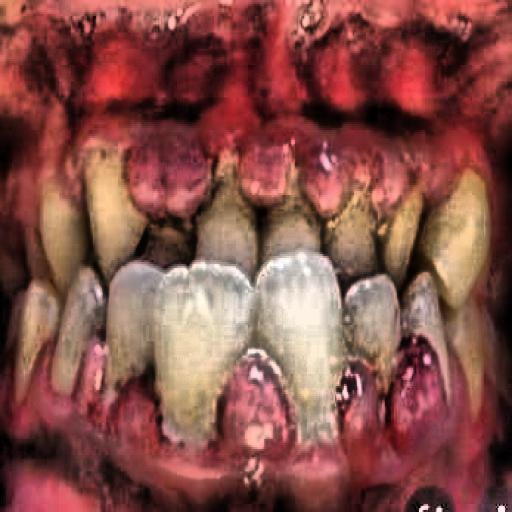Gingivitis: (24, 325, 478, 485), (104, 101, 492, 210)
